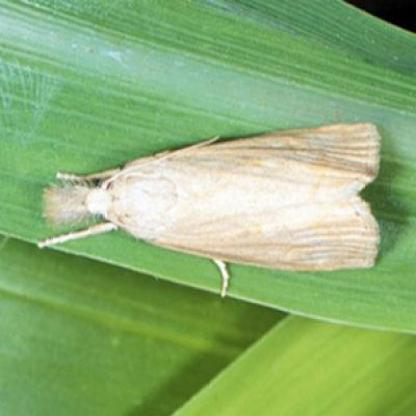stem-borer: (36, 121, 384, 296)
